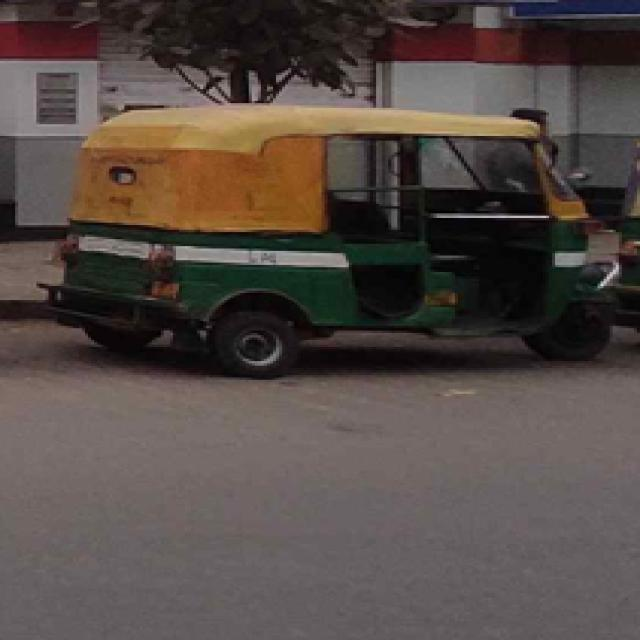autorickshaw: (63, 103, 624, 386)
